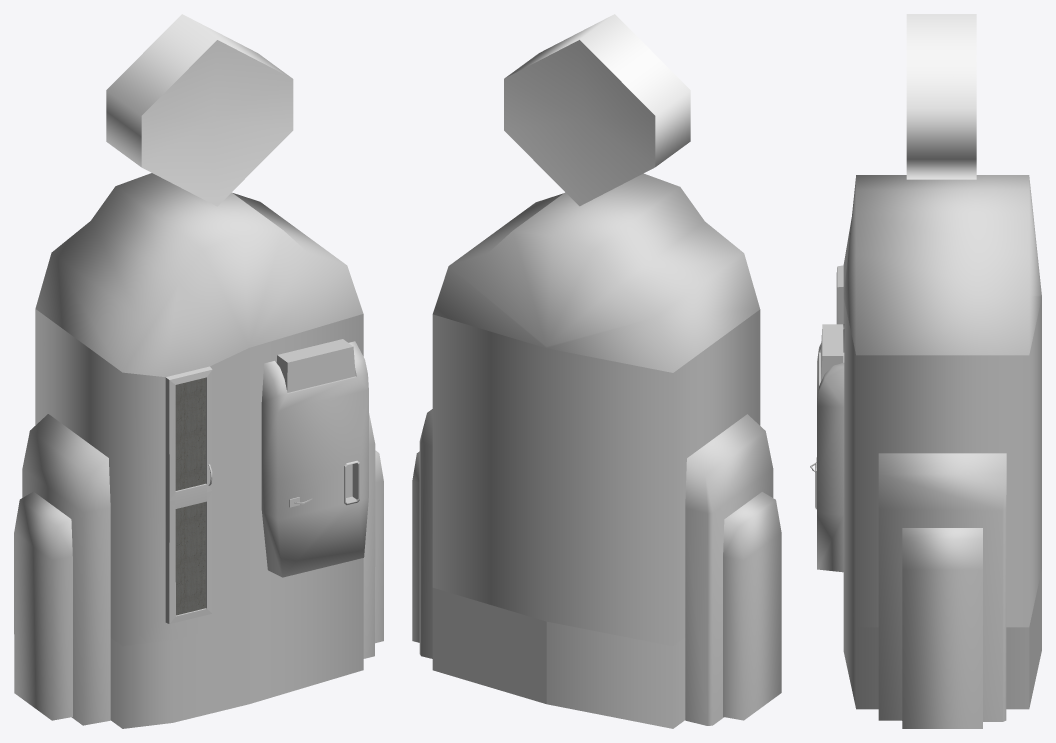
Rendered from p6_zm_al_vending_three_gun_on_lod3.glb.
The picture shows the model from 3 angles, left to right: view 1: azimuth 30°, elevation 25°; view 2: azimuth 150°, elevation 25°; view 3: azimuth 270°, elevation 25°; orthographic projection.
Parts seen in each view (by area): view 1: p6_zm_al_vending_three_gun_on_lod3; view 2: p6_zm_al_vending_three_gun_on_lod3; view 3: p6_zm_al_vending_three_gun_on_lod3.
Boxes of the visible parts, box(x1,y1,x2,y2) form: p6_zm_al_vending_three_gun_on_lod3: box(14, 14, 383, 728); p6_zm_al_vending_three_gun_on_lod3: box(412, 14, 781, 728); p6_zm_al_vending_three_gun_on_lod3: box(810, 14, 1041, 728).
Bounding box in the file's own units: 60.26 × 112 × 36.85.
Materials: 3 (1 with a texture image).
